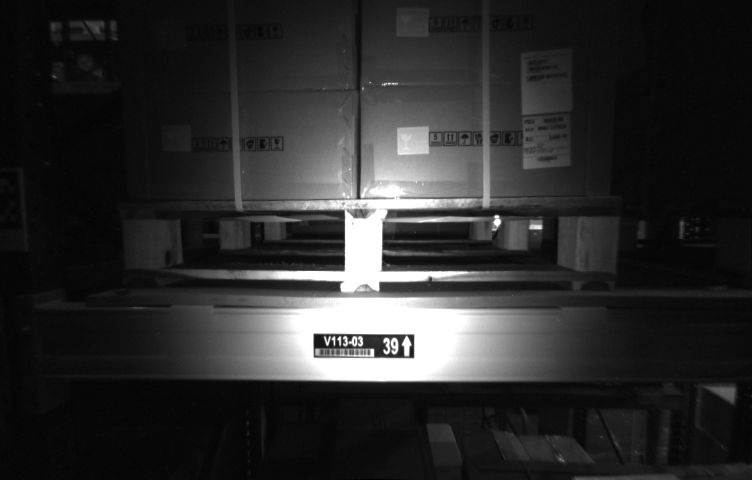True Barcode: (523, 116, 572, 171)
